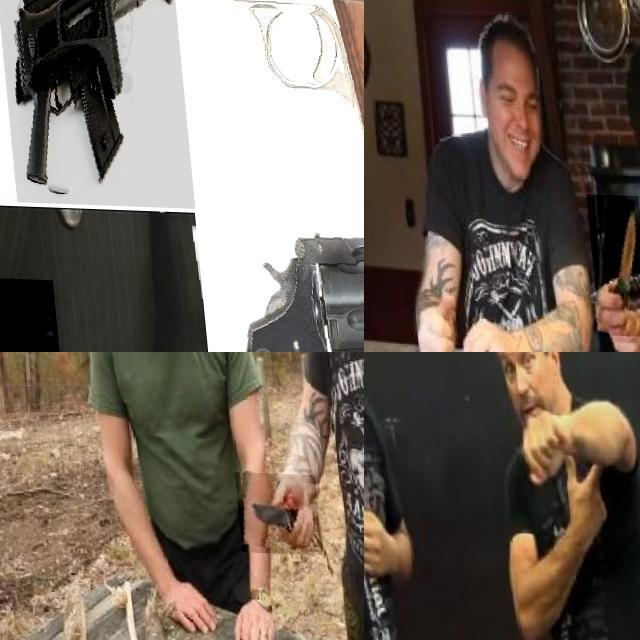-: (581, 191, 640, 334), (228, 470, 314, 552)
gun-knife-thesis - v11 Yolov5 augmented: (165, 0, 364, 215), (0, 0, 191, 206), (188, 211, 364, 352), (0, 0, 80, 193)
